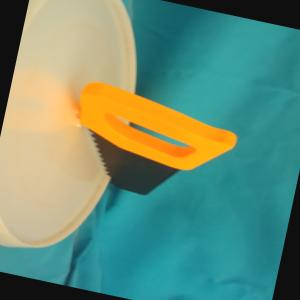serrote: (60, 78, 244, 212)
